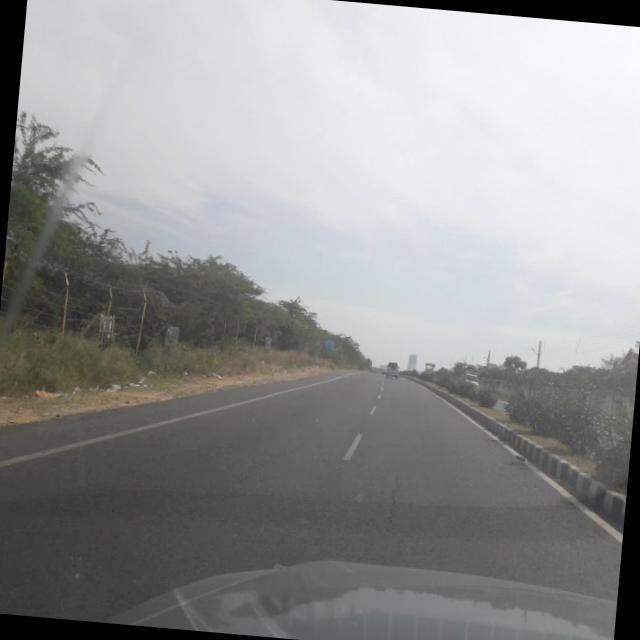pothole: (377, 466, 412, 542)
